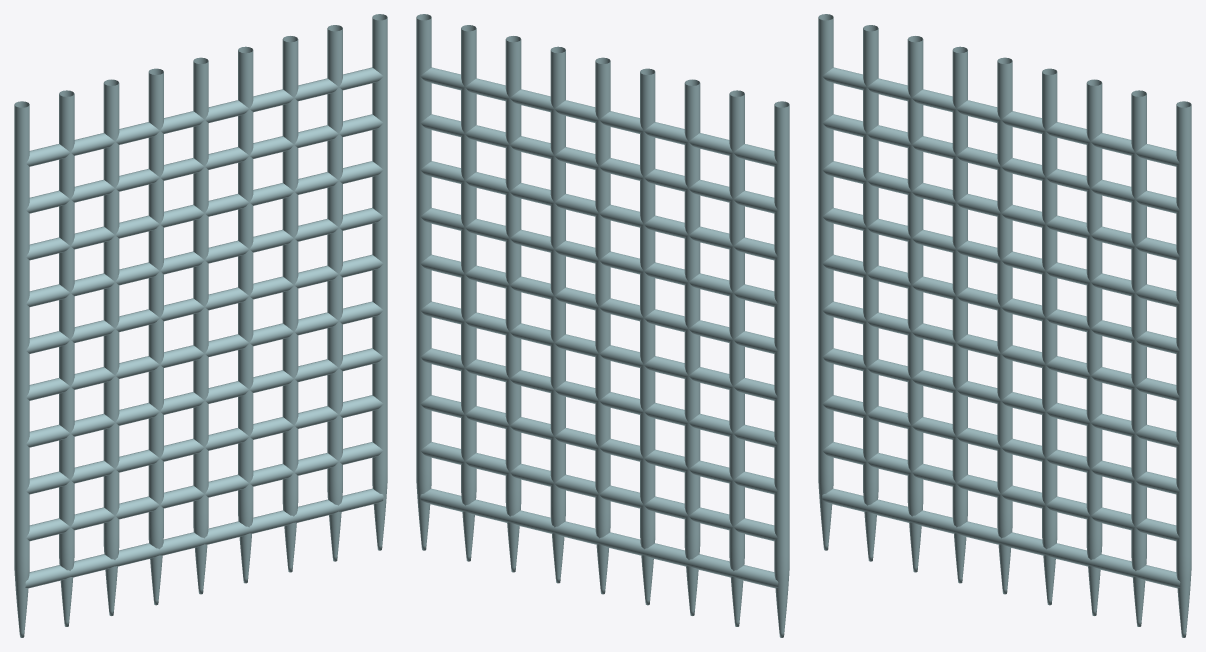
The model's file is MetalHearse.fbx.
The picture shows the model from 3 angles, left to right: view 1: azimuth 30°, elevation 25°; view 2: azimuth 150°, elevation 25°; view 3: azimuth 330°, elevation 25°; orthographic projection.
Visible parts, largest first — view 1: MetalHearse; view 2: MetalHearse; view 3: MetalHearse.
Part boxes in pixels (x1,y1,x2,y2): MetalHearse: (14,14,387,637); MetalHearse: (416,14,789,637); MetalHearse: (818,14,1191,637).
Bounding box in the file's own units: 11.86 × 0.4289 × 16.26.
